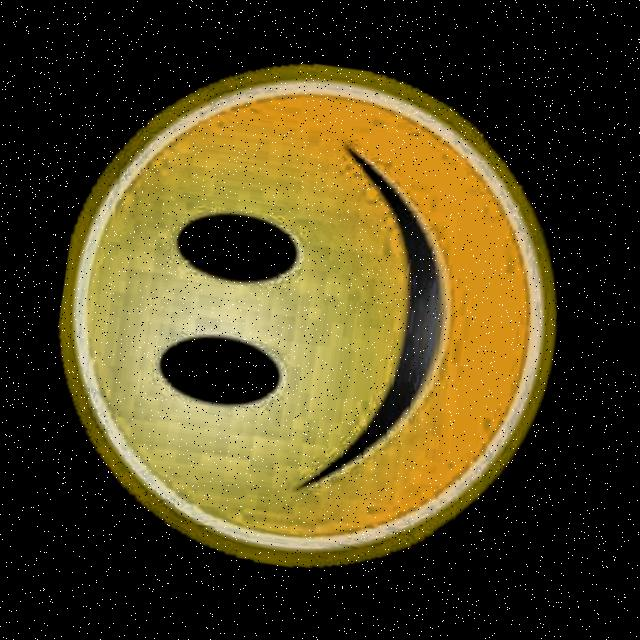happy: (23, 24, 598, 596)
